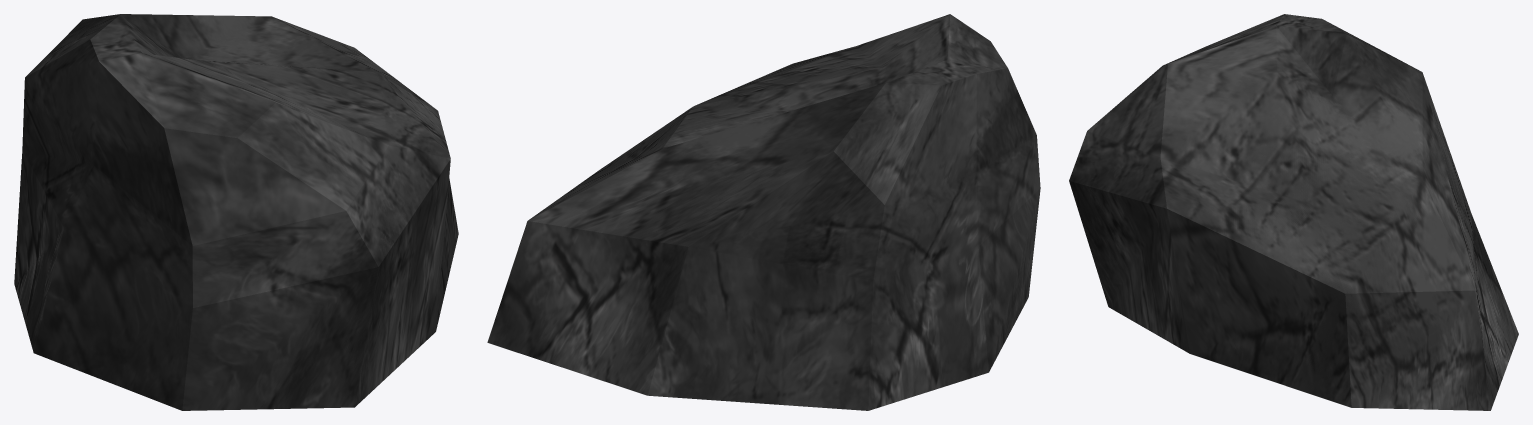
Rendered from rock3.fbx.
3 renders of one model, left to right at view 1: azimuth 30°, elevation 25°; view 2: azimuth 150°, elevation 25°; view 3: azimuth 270°, elevation 25°, orthographic. The views are drawn at different scales.
Visible parts, largest first — view 1: pSphere5; view 2: pSphere5; view 3: pSphere5.
Part boxes in pixels (x1=…): pSphere5: x1=14, y1=14, x2=458, y2=410; pSphere5: x1=487, y1=14, x2=1040, y2=410; pSphere5: x1=1069, y1=14, x2=1518, y2=410.
Bounding box in the file's own units: 24.02 × 15.6 × 26.31.
